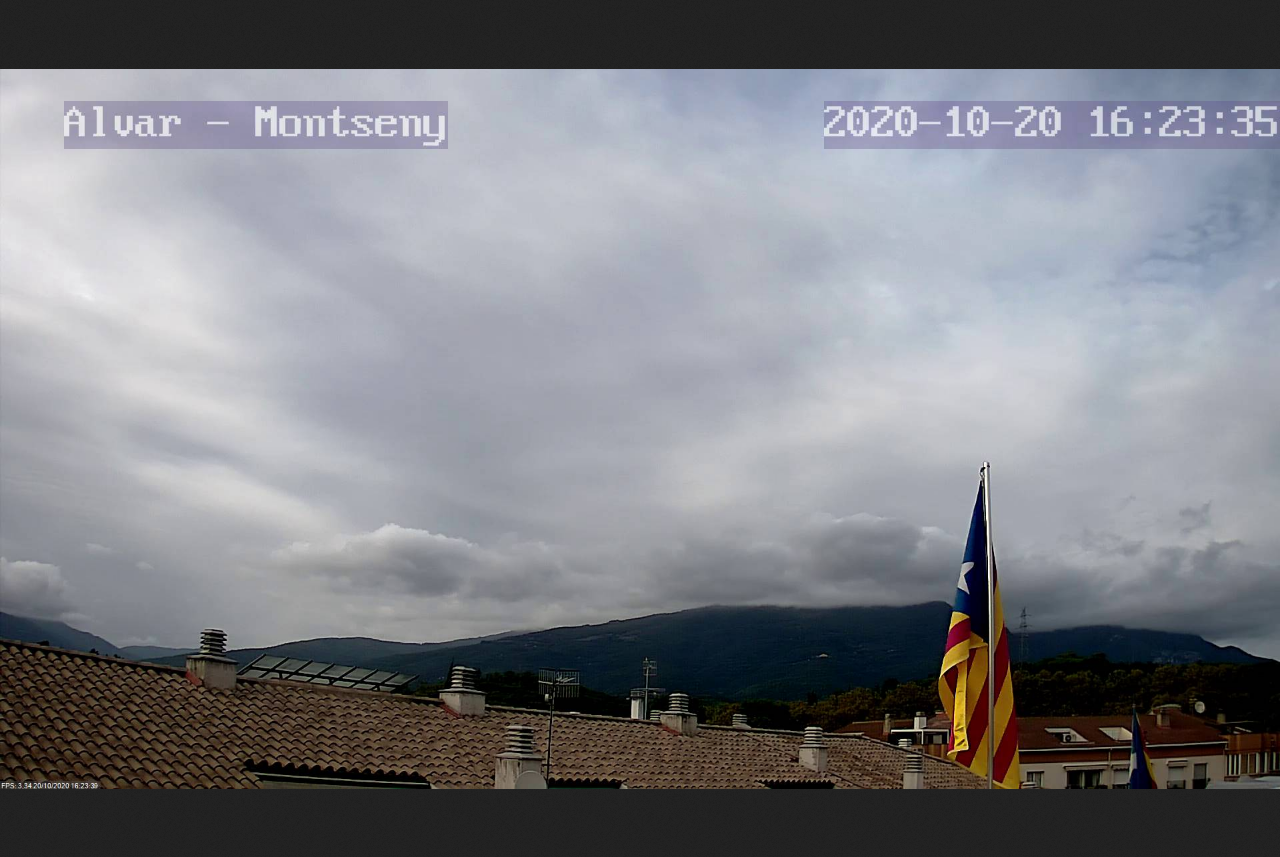no: (939, 471, 1022, 793)
